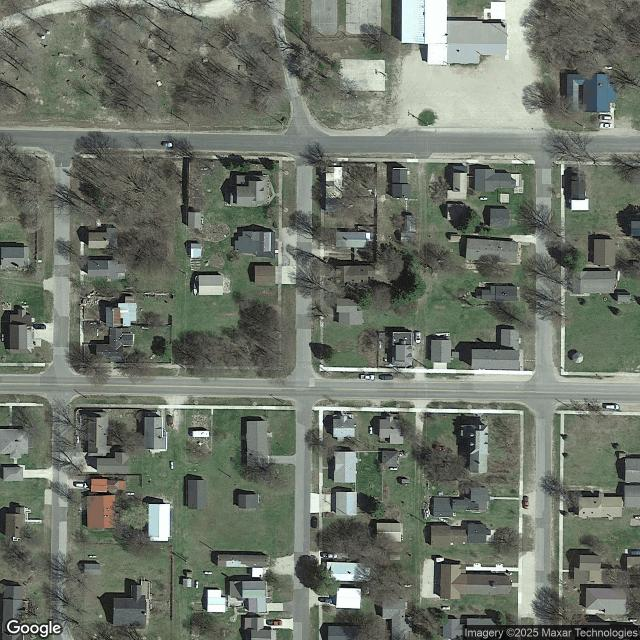Propane: (425, 509, 430, 518), (170, 461, 174, 470), (604, 66, 613, 70), (89, 555, 97, 559), (390, 467, 398, 471), (404, 584, 412, 588), (442, 606, 450, 610), (379, 341, 383, 349), (480, 197, 488, 201), (125, 492, 135, 495), (628, 619, 638, 622), (90, 321, 97, 325), (96, 328, 99, 337), (196, 581, 199, 589), (370, 427, 373, 435), (141, 327, 149, 330), (76, 436, 79, 443), (205, 572, 212, 575), (2, 333, 4, 342), (200, 168, 208, 170)
